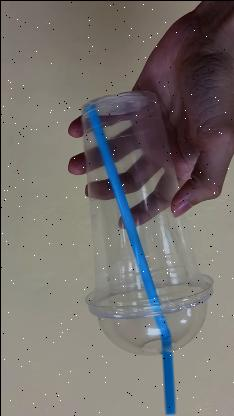Others: (78, 90, 214, 392)
